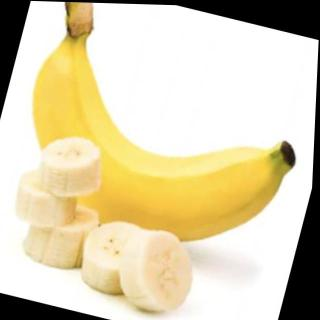banana: (0, 38, 314, 278)
